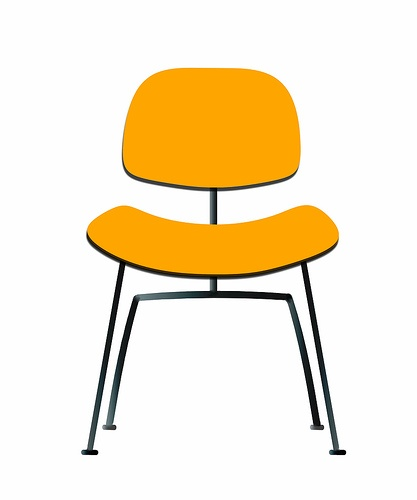obstacle: (82, 68, 344, 454)
